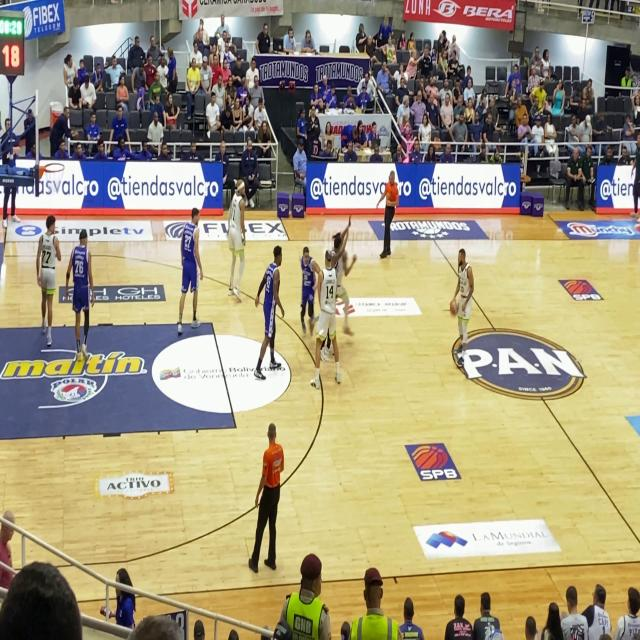Ball: (448, 294, 459, 316)
referee: (238, 412, 289, 579), (371, 163, 411, 279)
team1: (437, 238, 482, 372), (34, 212, 60, 351), (224, 180, 251, 310), (328, 222, 357, 340), (315, 256, 341, 381)
team2: (64, 221, 92, 366), (176, 203, 205, 338), (258, 237, 284, 372), (290, 239, 318, 347)
ubasket: (43, 162, 66, 188)
